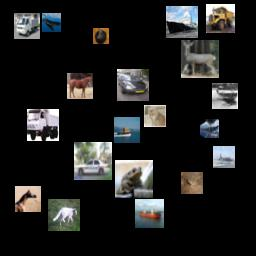airplane: (213, 146, 235, 168), (42, 13, 61, 32), (200, 119, 219, 138)
automobile: (74, 142, 112, 180), (117, 69, 149, 101)
cat: (48, 199, 80, 231), (144, 105, 166, 127), (93, 28, 109, 44)
deer: (181, 40, 219, 78)
frog: (115, 160, 153, 198), (181, 172, 203, 194)
ship: (166, 6, 198, 38), (135, 199, 164, 228), (114, 117, 140, 143), (212, 83, 238, 109)
truck: (27, 109, 59, 141), (206, 4, 235, 33), (14, 13, 40, 39)
